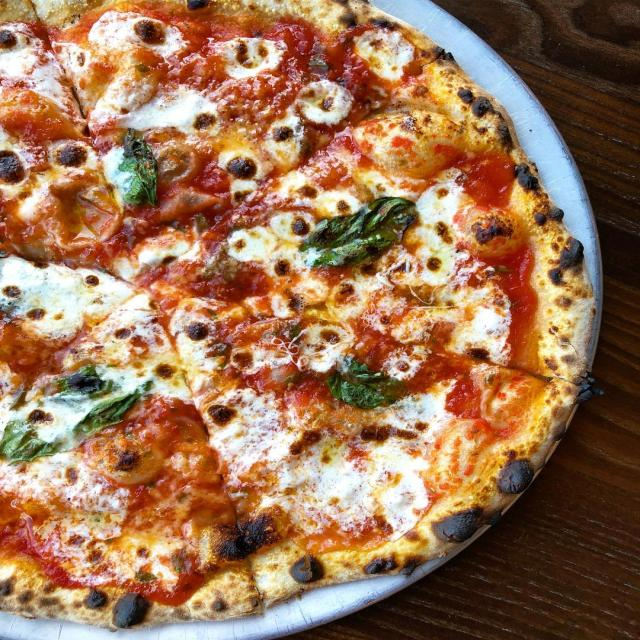basil: (0, 0, 596, 629), (301, 198, 418, 266), (73, 381, 151, 436), (326, 358, 406, 408), (120, 129, 156, 205), (0, 420, 57, 462), (58, 366, 106, 395)
